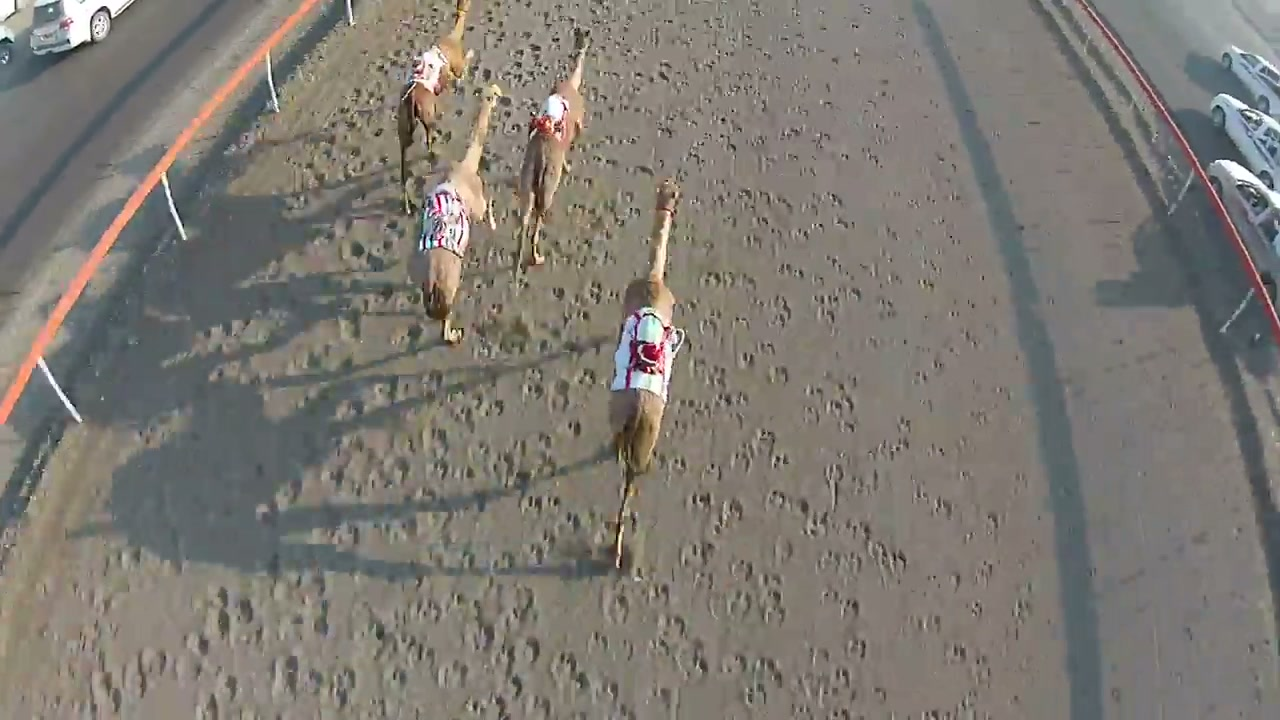animal_footprint: (126, 124, 635, 719), (738, 15, 1050, 691), (582, 46, 890, 697)
